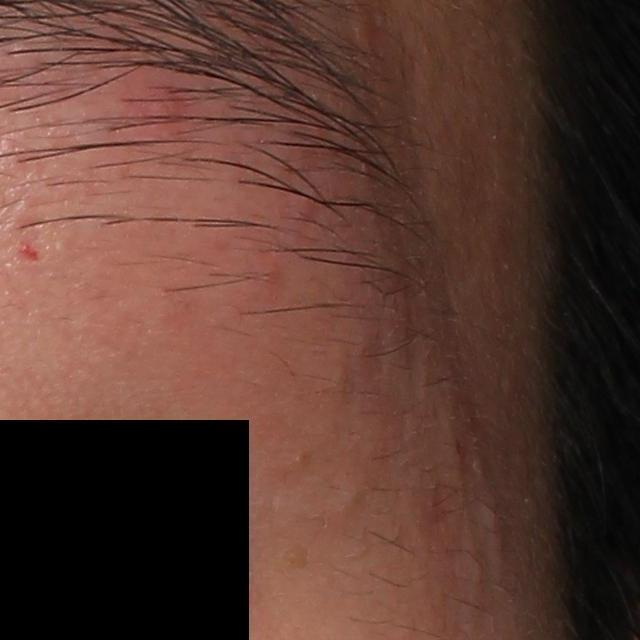comedo: (333, 487, 361, 514)
